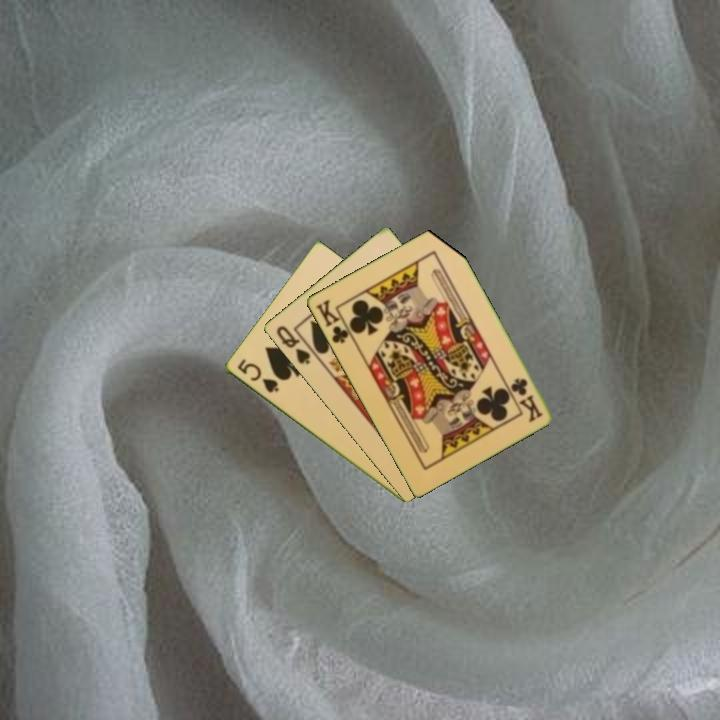5s: (233, 355, 281, 396)
Kc: (311, 296, 356, 347), (507, 374, 545, 424)
Qs: (272, 322, 313, 368)
